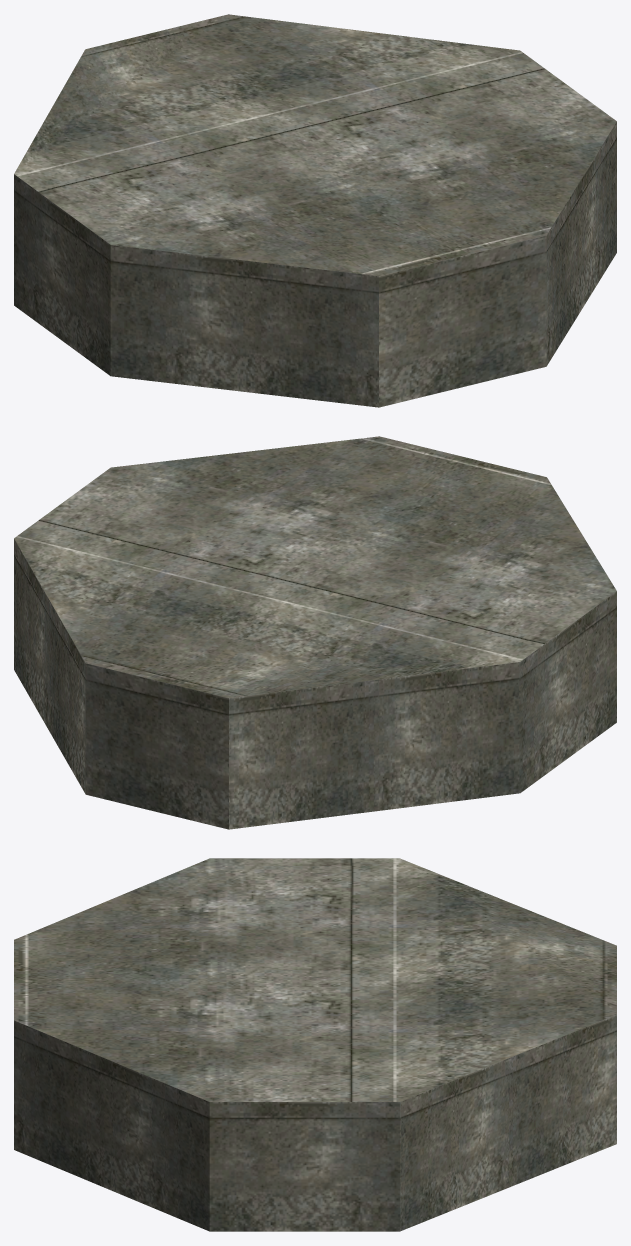
The model's file is ins_all_flora_farm_base_s01_u0_l0.fbx.
3 views of the same model, one above another, from view 1: azimuth 30°, elevation 25°; view 2: azimuth 150°, elevation 25°; view 3: azimuth 270°, elevation 25° (orthographic).
Visible parts, largest first — view 1: mesh_node; view 2: mesh_node; view 3: mesh_node.
Part boxes in pixels (x1,y1,x2,y2): mesh_node: (14, 14, 616, 407); mesh_node: (14, 436, 616, 829); mesh_node: (14, 858, 616, 1231).
Size of the model in its own units: 9.07 by 2.25 by 9.49.
